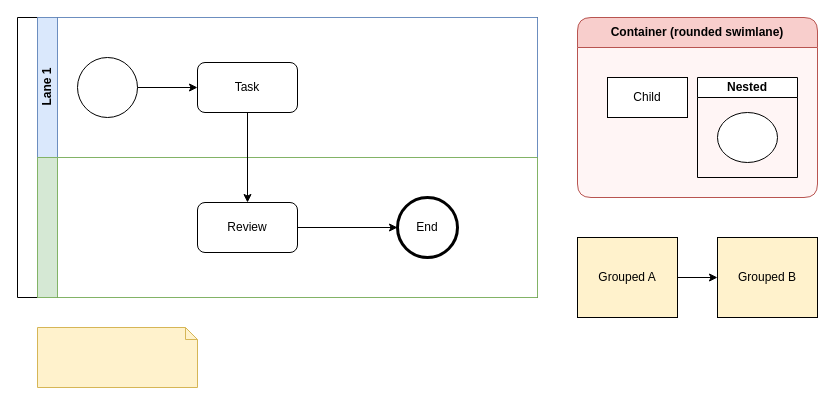
This 835x405 diagram has some shape labels left out. Here are the shapes that lost their labels. From the top down, the box of each, then its label:
(76, 56, 138, 118): Start
(16, 16, 538, 298): Pool
(716, 112, 778, 162): Deep
(36, 156, 538, 298): Lane 2
(36, 326, 198, 388): On the 'Notes' layer
